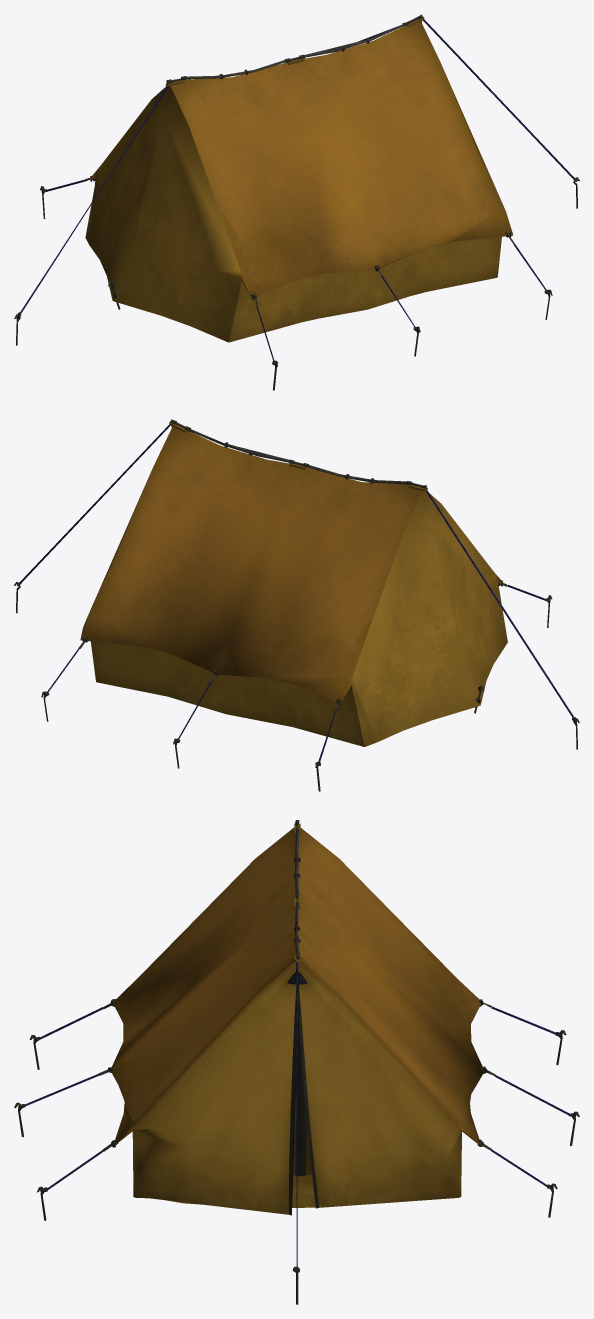
The picture shows the model from 3 angles, top to bottom: view 1: azimuth 30°, elevation 25°; view 2: azimuth 150°, elevation 25°; view 3: azimuth 270°, elevation 25°; orthographic projection. The views are drawn at different scales.
Parts seen in each view (by area): view 1: Tent_BakedWind_0; view 2: Tent_BakedWind_0; view 3: Tent_BakedWind_0.
Part boxes in pixels (x1,y1,x2,y2): Tent_BakedWind_0: (14,14,579,390); Tent_BakedWind_0: (14,419,579,791); Tent_BakedWind_0: (14,820,579,1304).
Size of the model in its own units: 4.51 by 1.76 by 3.44.
1 material, 1 textured.
